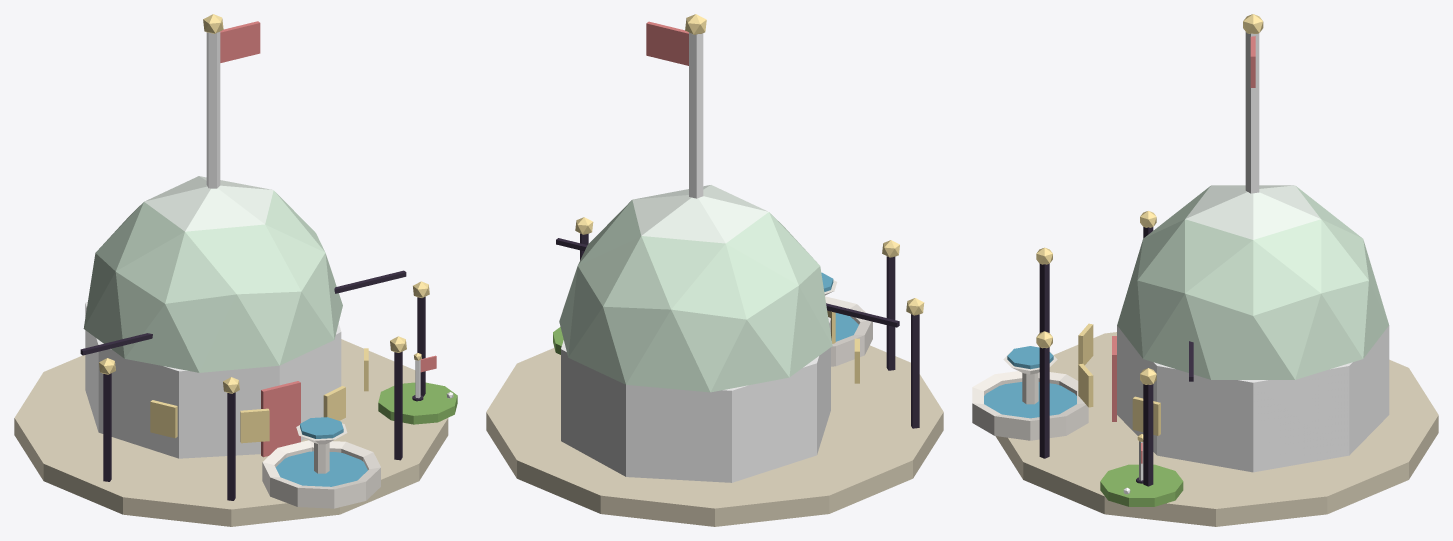
The model's file is park-landmark-s3.glb.
3 views of the same model, side by side, from view 1: azimuth 30°, elevation 25°; view 2: azimuth 150°, elevation 25°; view 3: azimuth 270°, elevation 25° (orthographic). The views are drawn at different scales.
Parts seen in each view (by area): view 1: park-landmark-s3; view 2: park-landmark-s3; view 3: park-landmark-s3.
Boxes of the visible parts, x1,y1,x2,y2 form: park-landmark-s3: [14, 14, 457, 526]; park-landmark-s3: [486, 14, 943, 526]; park-landmark-s3: [972, 14, 1438, 526].
Size of the model in its own units: 1.8 by 1.87 by 1.89.
